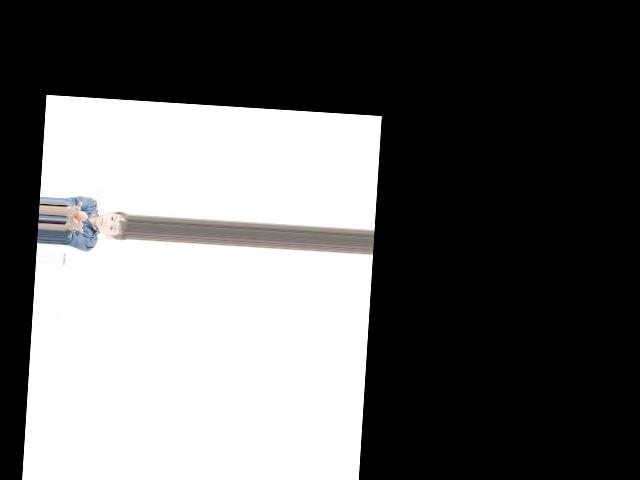egg: (74, 211, 87, 222)
